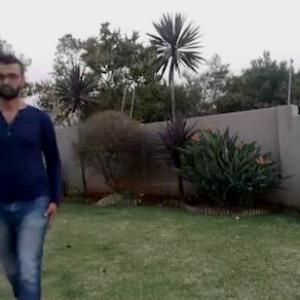follow: (1, 69, 60, 299)
